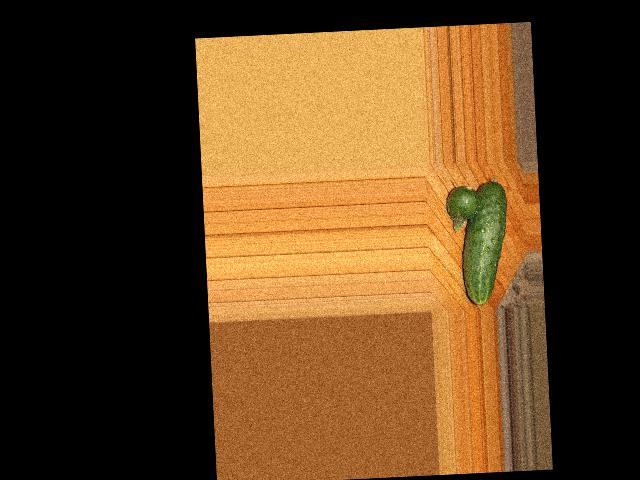cucumber: (458, 180, 511, 306)
